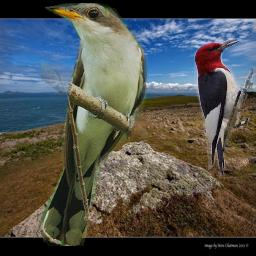Cuckoo: (41, 3, 148, 246)
Woodpecker: (194, 38, 253, 180)
